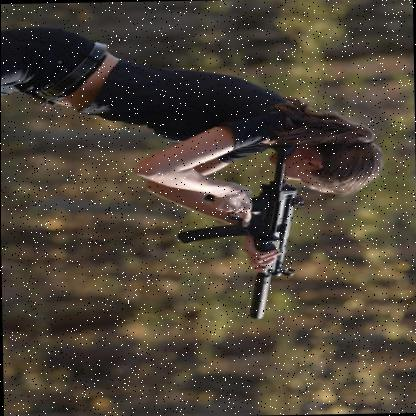rifle: (168, 138, 323, 317)
